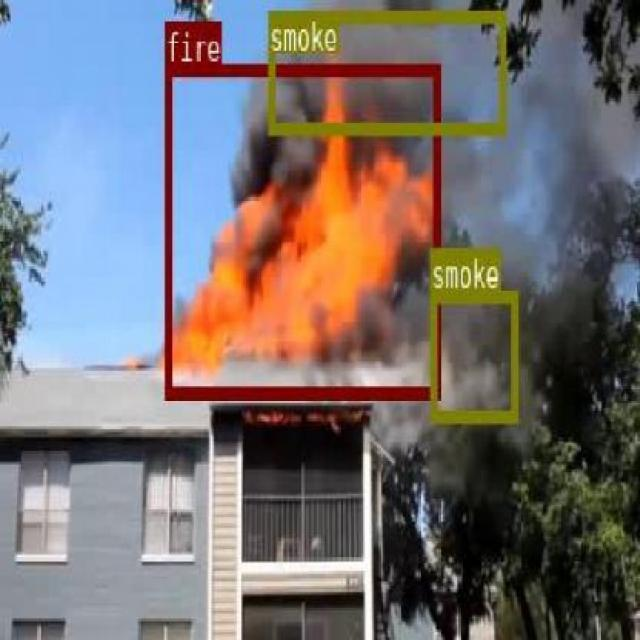Fire: (156, 60, 454, 375)
Smoke: (352, 25, 625, 503), (234, 0, 356, 360)
